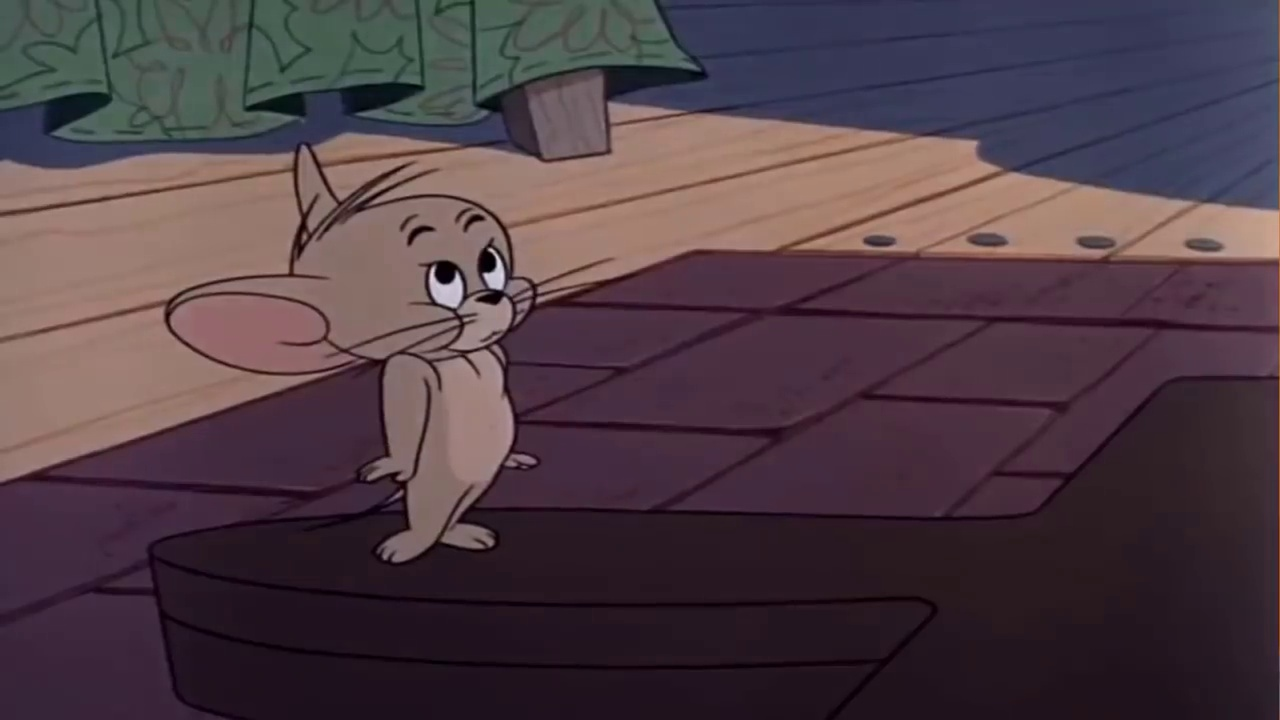face: (396, 207, 521, 352)
